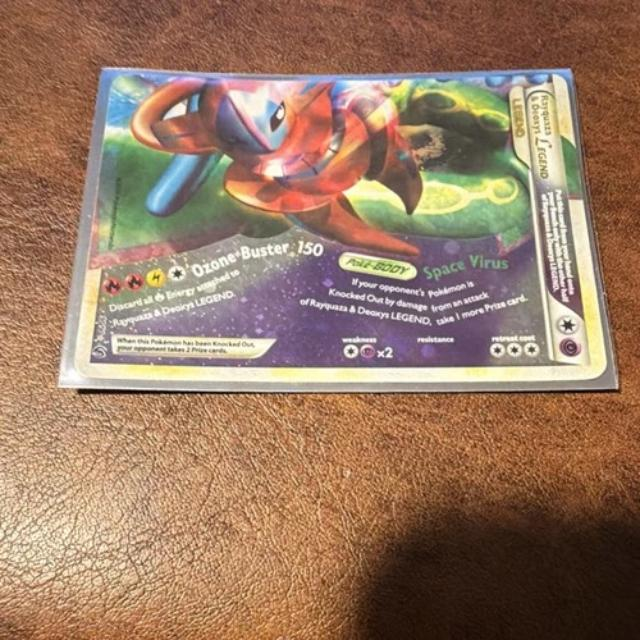Card: (66, 69, 611, 388)
Name: (524, 91, 565, 183)
